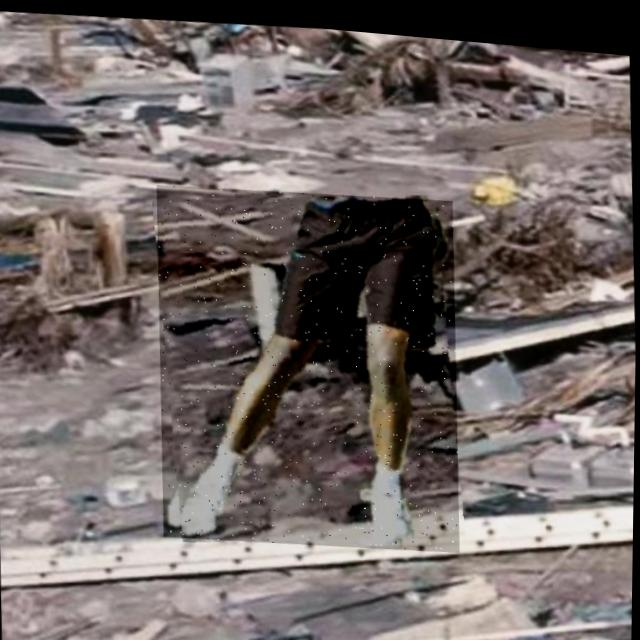Person in Rubble: (152, 172, 465, 554)
